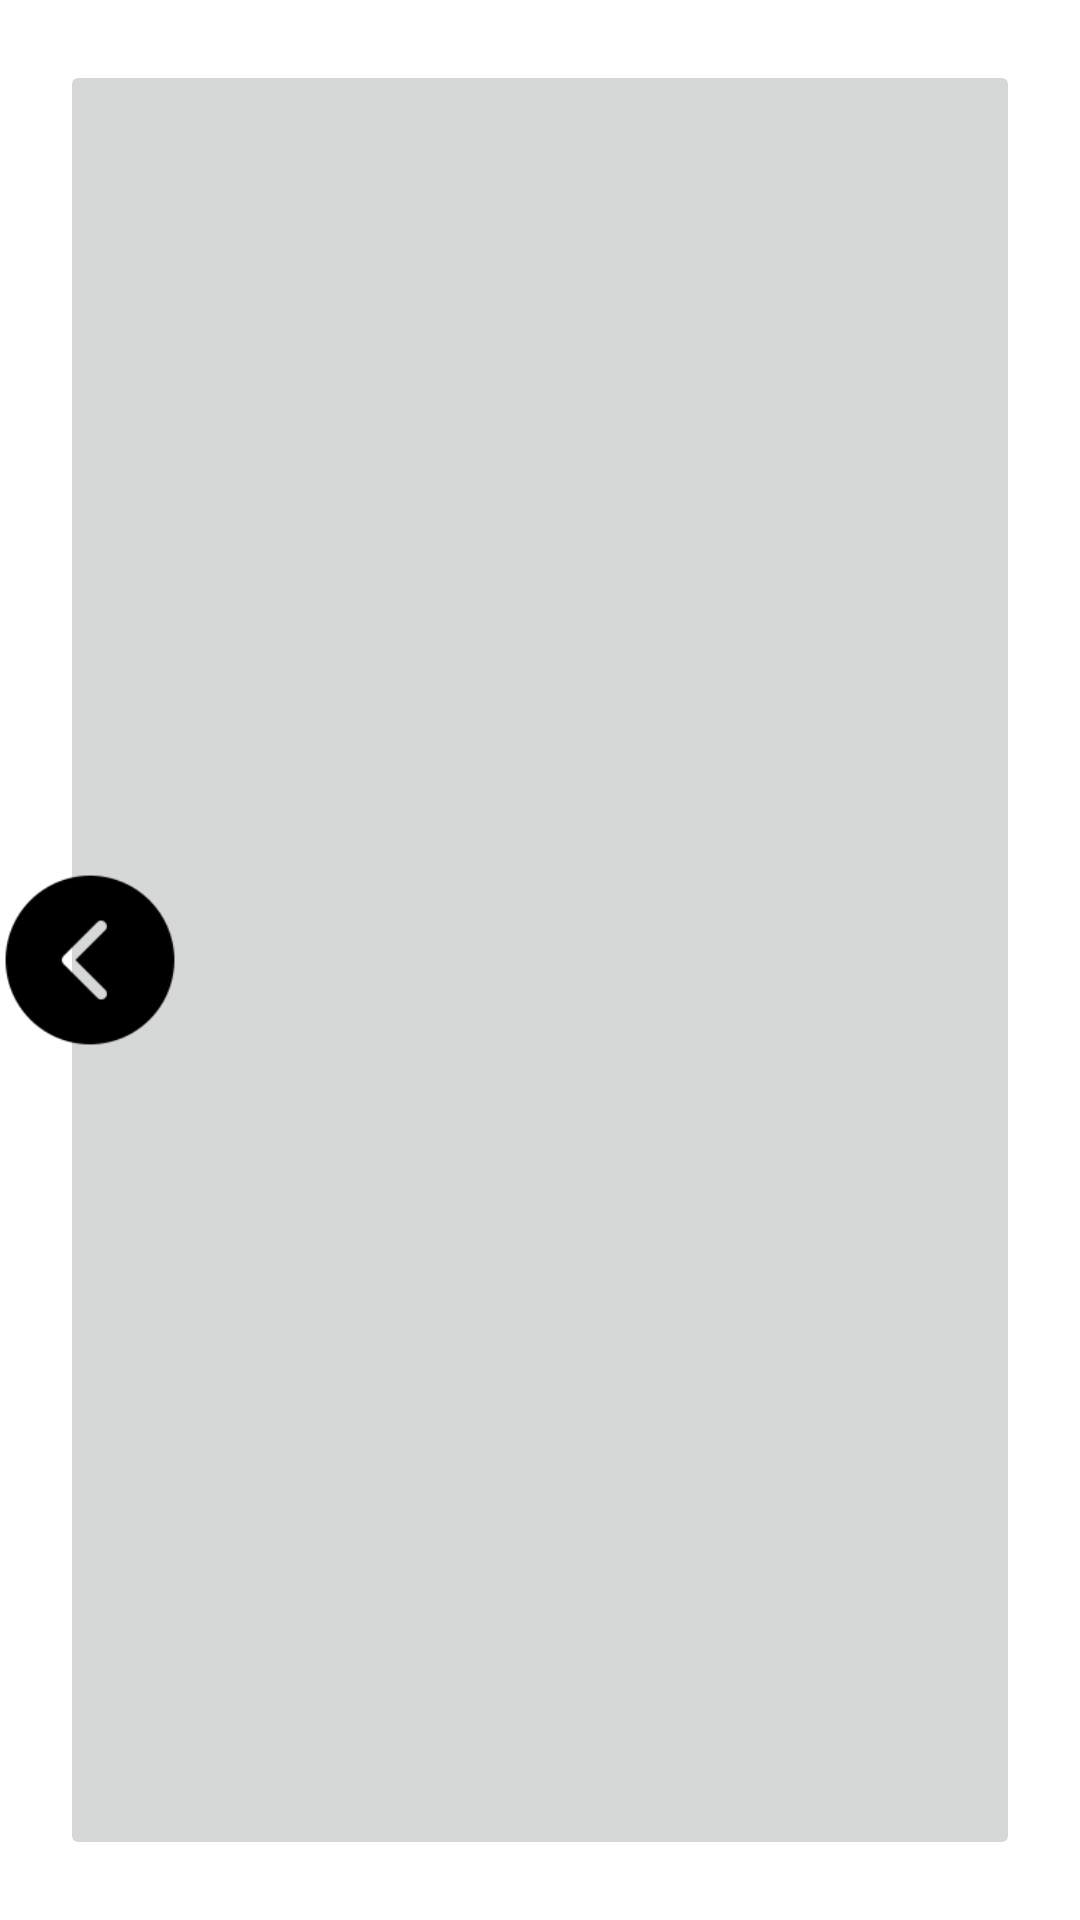

Point at icon controls on the screen. Image size 1080w x 1920h, points as (x,y).
left: (87,960)
